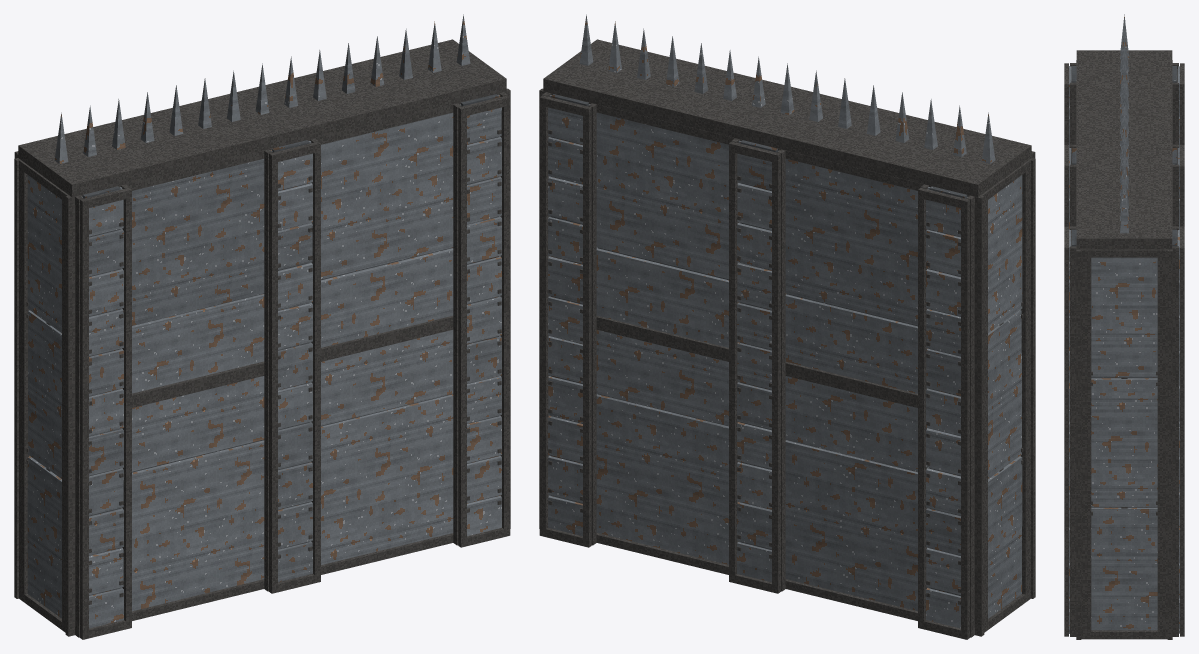
Rendered from muro_metal_gigante.glb.
The picture shows the model from 3 angles, left to right: view 1: azimuth 30°, elevation 25°; view 2: azimuth 150°, elevation 25°; view 3: azimuth 270°, elevation 25°; orthographic projection. The views are drawn at different scales.
Parts seen in each view (by area): view 1: muro_metal_gigante_metal, muro_metal_gigante_ferro; view 2: muro_metal_gigante_metal, muro_metal_gigante_ferro; view 3: muro_metal_gigante_ferro, muro_metal_gigante_metal.
Boxes of the visible parts, <box> form: muro_metal_gigante_metal: <box>27,14,501,628</box>; muro_metal_gigante_ferro: <box>14,39,510,639</box>; muro_metal_gigante_metal: <box>548,14,1022,628</box>; muro_metal_gigante_ferro: <box>539,39,1035,639</box>; muro_metal_gigante_ferro: <box>1064,50,1184,639</box>; muro_metal_gigante_metal: <box>1069,14,1179,633</box>.
Size of the model in its own units: 9.24 by 9.98 by 2.46.
Materials: 2 (2 with a texture image).
